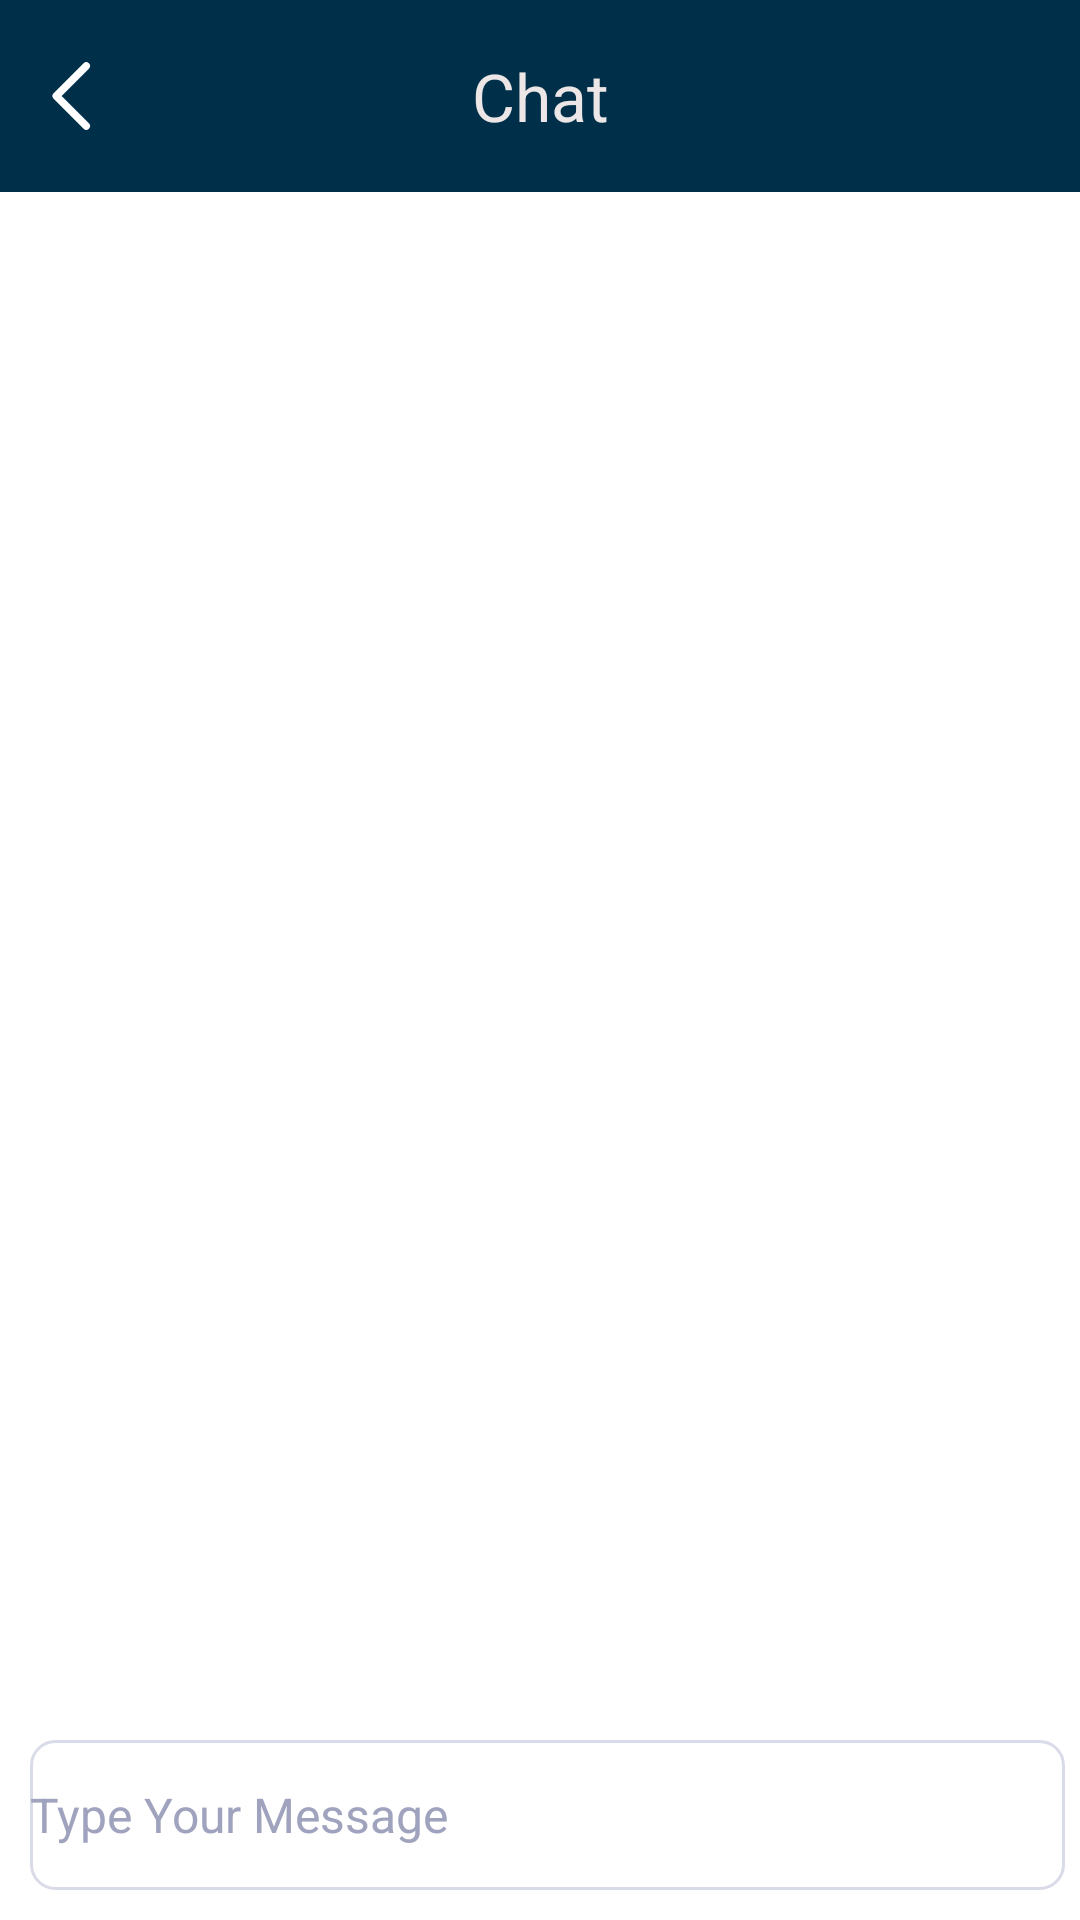

Named icons in this screenshot (1080*1920) and their bounding boxes, (x1, y1, x2, y2):
arrow back: (52, 62, 90, 130)
